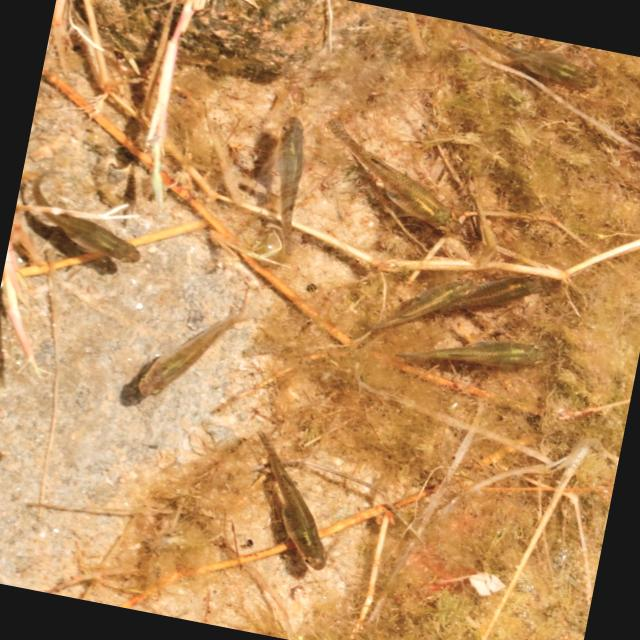Sivrisinek Baligi: (122, 284, 266, 423), (312, 117, 478, 234), (232, 428, 356, 576), (16, 164, 156, 267), (399, 312, 564, 392), (443, 250, 565, 344), (249, 112, 323, 258), (367, 258, 474, 354)
